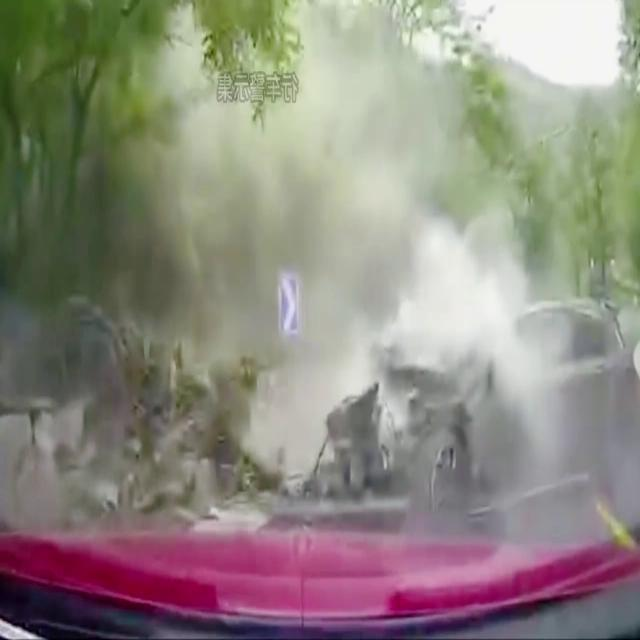accident: (0, 270, 638, 570)
